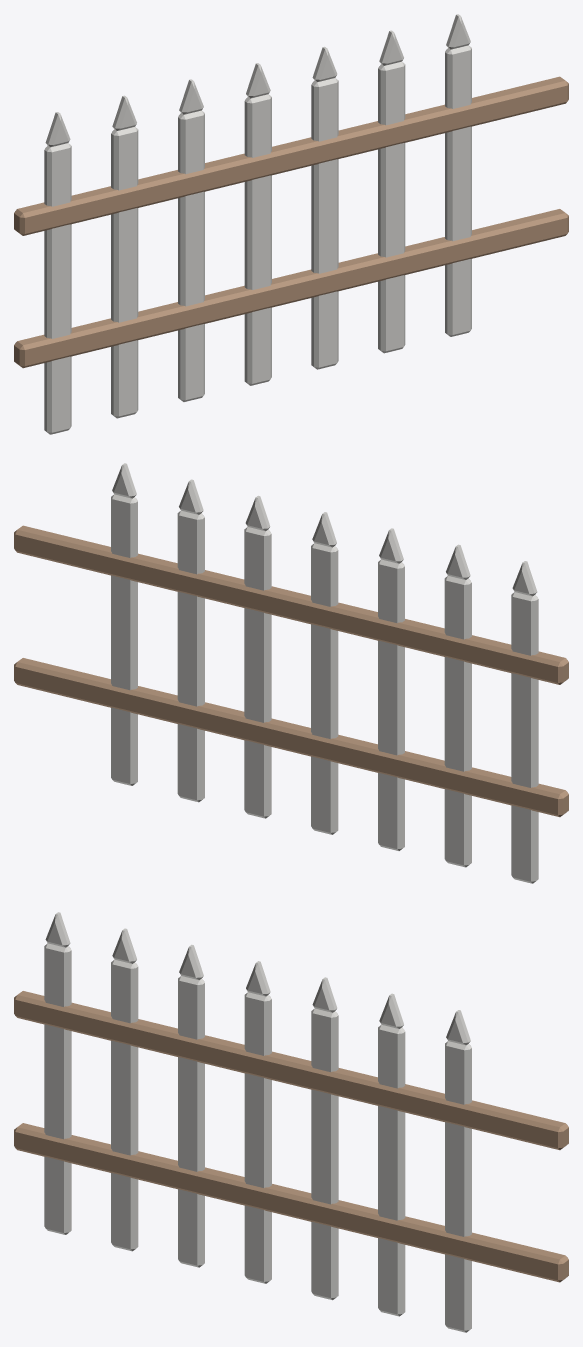
Rendered from SM_Fence_Section.fbx.
3 renders of one model, top to bottom at view 1: azimuth 30°, elevation 25°; view 2: azimuth 150°, elevation 25°; view 3: azimuth 330°, elevation 25°, orthographic.
Visible parts, largest first — view 1: Fence_Section; view 2: Fence_Section; view 3: Fence_Section.
Part boxes in pixels (x1,y1,x2,y2): Fence_Section: (14, 14, 568, 434); Fence_Section: (14, 463, 568, 883); Fence_Section: (14, 912, 568, 1332).
Bounding box in the file's own units: 200 × 111 × 6.
